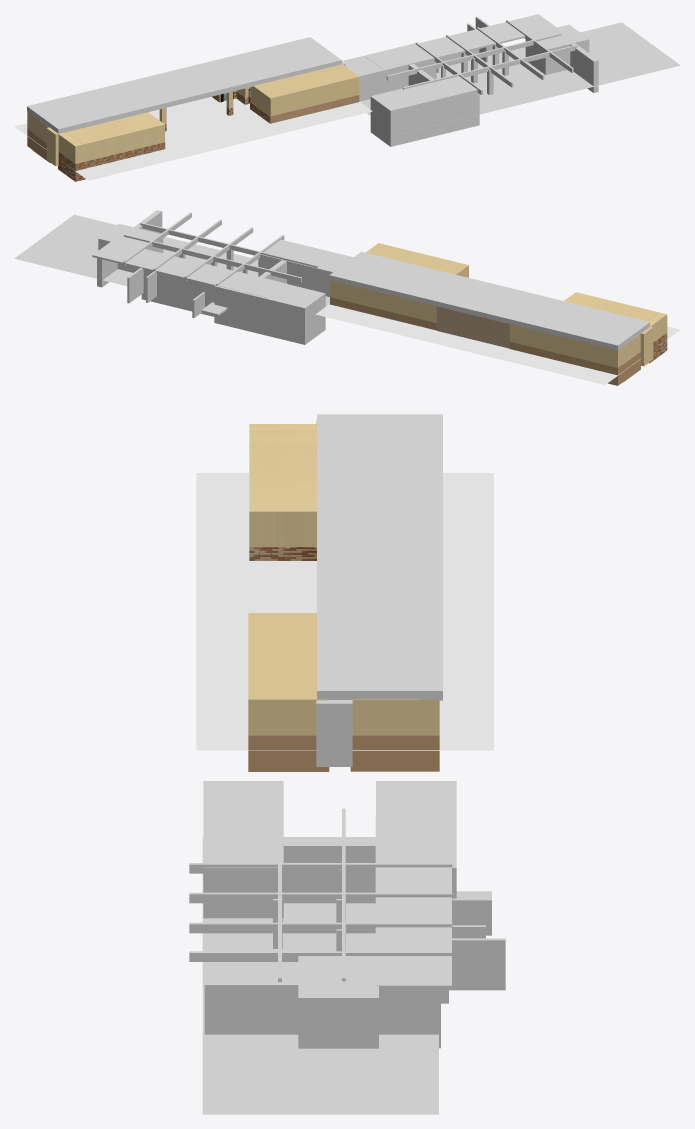
The model's file is sac1.fbx.
The picture shows the model from 3 angles, top to bottom: view 1: azimuth 30°, elevation 25°; view 2: azimuth 150°, elevation 25°; view 3: azimuth 270°, elevation 25°; orthographic projection. The views are drawn at different scales.
Visible parts, largest first — view 1: Cube.004, Plane, Plane.001, Cube.023, Cube, Cube.007, Cube.031, Cube.016, Cube.017, Cube.035, Cube.018, Cube.034 (+7 smaller); view 2: Cube.004, Cube.016, Plane.001, Plane, Cube.031, Cube.005, Cube.008, Cube.023, Cube.013, Cube, Cube.020, Cube.007 (+13 smaller); view 3: Cube.004, Plane, Plane.001, Cube.031, Cube.007, Cube.023, Cube, Cube.018, Cube.017, Cube.009, Cube.019, Cube.016 (+8 smaller).
Part boxes in pixels (x1,y1,x2,y2): Cube.004: [27, 37, 341, 133]; Plane: [14, 97, 372, 180]; Plane.001: [360, 22, 680, 134]; Cube.023: [370, 76, 479, 146]; Cube: [58, 112, 165, 181]; Cube.007: [250, 64, 359, 123]; Cube.031: [365, 14, 557, 71]; Cube.016: [342, 43, 436, 101]; Cube.017: [525, 24, 589, 74]; Cube.035: [386, 33, 561, 80]; Cube.018: [570, 43, 598, 92]; Cube.034: [402, 45, 577, 89]; Cube.004: [329, 251, 649, 350]; Cube.016: [214, 284, 325, 344]; Plane.001: [14, 214, 329, 306]; Plane: [315, 304, 680, 384]; Cube.031: [92, 241, 287, 298]; Cube.005: [509, 324, 623, 385]; Cube.008: [330, 280, 436, 330]; Cube.023: [258, 239, 353, 296]; Cube.013: [436, 306, 509, 348]; Cube: [564, 292, 667, 363]; Cube.020: [141, 269, 214, 316]; Cube.007: [366, 243, 468, 277]; Cube.004: [317, 414, 442, 700]; Plane: [196, 473, 493, 750]; Plane.001: [202, 837, 438, 1114]; Cube.031: [375, 816, 451, 989]; Cube.007: [248, 613, 329, 771]; Cube.023: [203, 781, 283, 918]; Cube: [249, 424, 316, 560]; Cube.018: [204, 980, 440, 1048]; Cube.017: [298, 956, 378, 1048]; Cube.009: [350, 699, 419, 771]; Cube.019: [283, 841, 375, 892]; Cube.016: [376, 781, 456, 898].
Size of the model in its own units: 24064 by 2740 by 5517.
